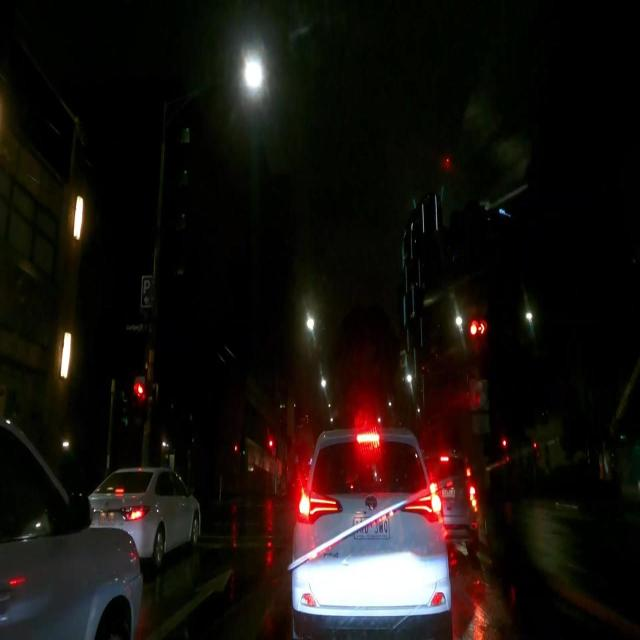Car: (291, 429, 450, 638), (85, 464, 200, 564)
